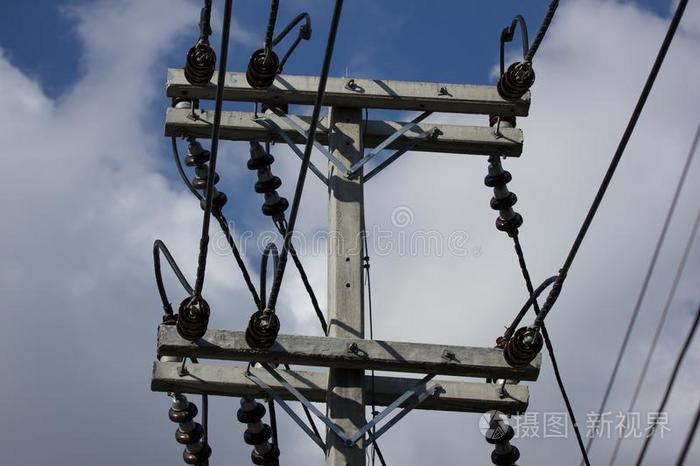insulator: (167, 403, 214, 461), (237, 402, 279, 466), (187, 149, 228, 213), (484, 167, 524, 232), (246, 154, 289, 214), (483, 423, 524, 466), (504, 326, 546, 365), (242, 49, 280, 90), (498, 63, 538, 98), (246, 311, 283, 348), (183, 45, 216, 86), (177, 300, 210, 340)
